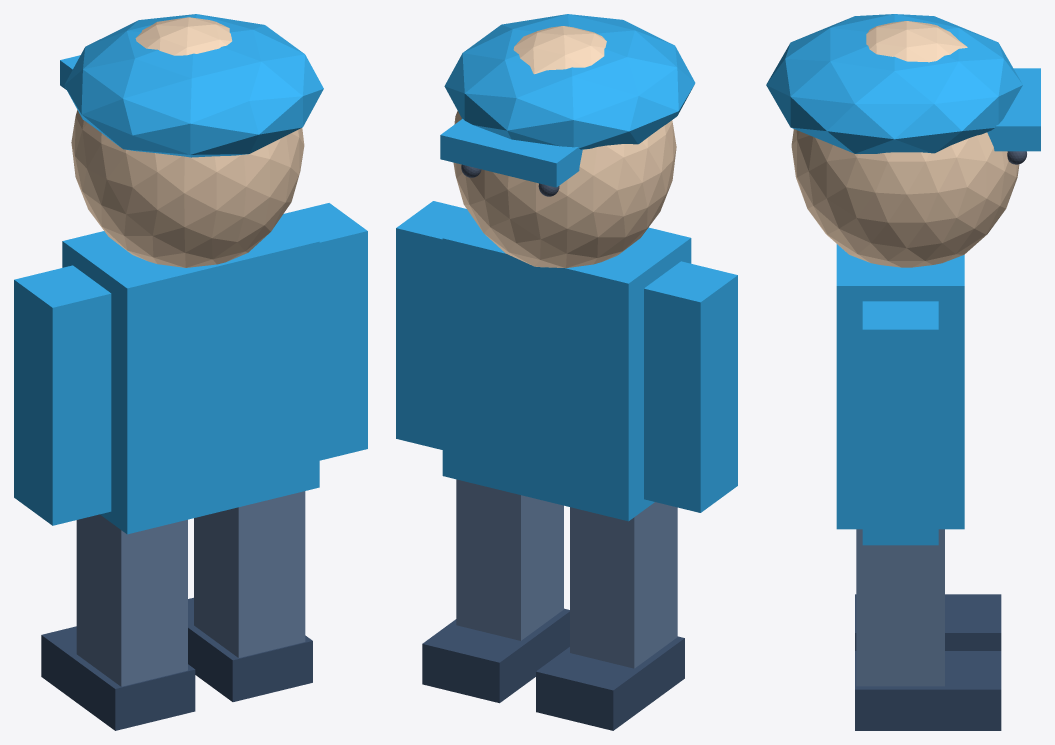
Rendered from player_blue.glb.
3 views of the same model, side by side, from view 1: azimuth 30°, elevation 25°; view 2: azimuth 150°, elevation 25°; view 3: azimuth 270°, elevation 25° (orthographic). The views are drawn at different scales.
Parts seen in each view (by area): view 1: Body, Cap, Head, Arm_L, Leg_L, Leg_R, Arm_R, Shoe_L, Shoe_R; view 2: Body, Cap, Arm_L, Head, Leg_L, Leg_R, Arm_R, Shoe_L, Shoe_R, CapBrim; view 3: Head, Cap, Arm_R, Body, Leg_R, Shoe_R, Shoe_L, CapBrim.
Part boxes in pixels (bbox=[...]): Body: bbox=[62, 215, 319, 534]; Cap: bbox=[64, 14, 323, 157]; Head: bbox=[71, 17, 304, 267]; Arm_L: bbox=[14, 265, 111, 525]; Leg_L: bbox=[76, 514, 187, 686]; Leg_R: bbox=[194, 491, 305, 657]; Arm_R: bbox=[283, 203, 367, 460]; Shoe_L: bbox=[41, 626, 195, 730]; Shoe_R: bbox=[188, 597, 312, 701]; Body: bbox=[442, 217, 691, 521]; Cap: bbox=[444, 14, 695, 149]; Arm_L: bbox=[644, 261, 737, 512]; Head: bbox=[453, 26, 676, 268]; Leg_L: bbox=[570, 502, 677, 668]; Leg_R: bbox=[456, 479, 563, 640]; Arm_R: bbox=[396, 201, 471, 449]; Shoe_L: bbox=[536, 636, 684, 730]; Shoe_R: bbox=[422, 608, 569, 703]; CapBrim: bbox=[440, 118, 582, 187]; Head: bbox=[791, 21, 1019, 267]; Cap: bbox=[766, 14, 1022, 153]; Arm_R: bbox=[862, 301, 938, 545]; Body: bbox=[836, 244, 964, 529]; Leg_R: bbox=[856, 529, 944, 686]; Shoe_R: bbox=[855, 651, 1001, 730]; Shoe_L: bbox=[855, 594, 1001, 650]; CapBrim: bbox=[987, 68, 1040, 151].
Size of the model in its own units: 1.18 by 2.36 by 0.9014.
